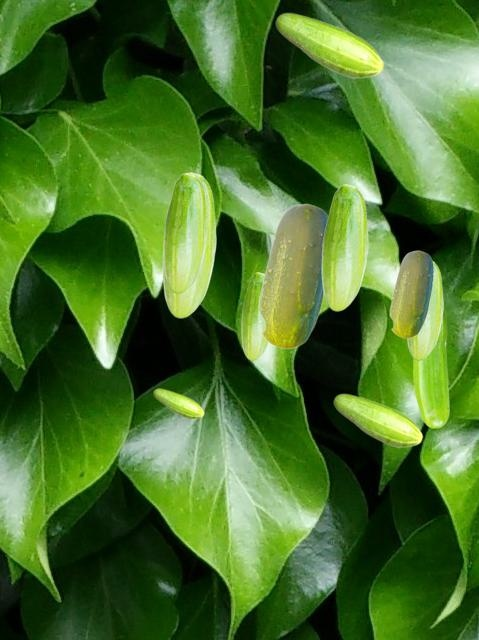cucumber: (258, 203, 327, 348), (162, 172, 215, 317), (275, 12, 383, 78), (321, 184, 367, 310), (163, 173, 206, 292), (333, 393, 422, 447), (413, 301, 448, 427), (389, 250, 432, 337), (406, 261, 442, 359), (241, 272, 268, 359), (153, 388, 203, 418)
